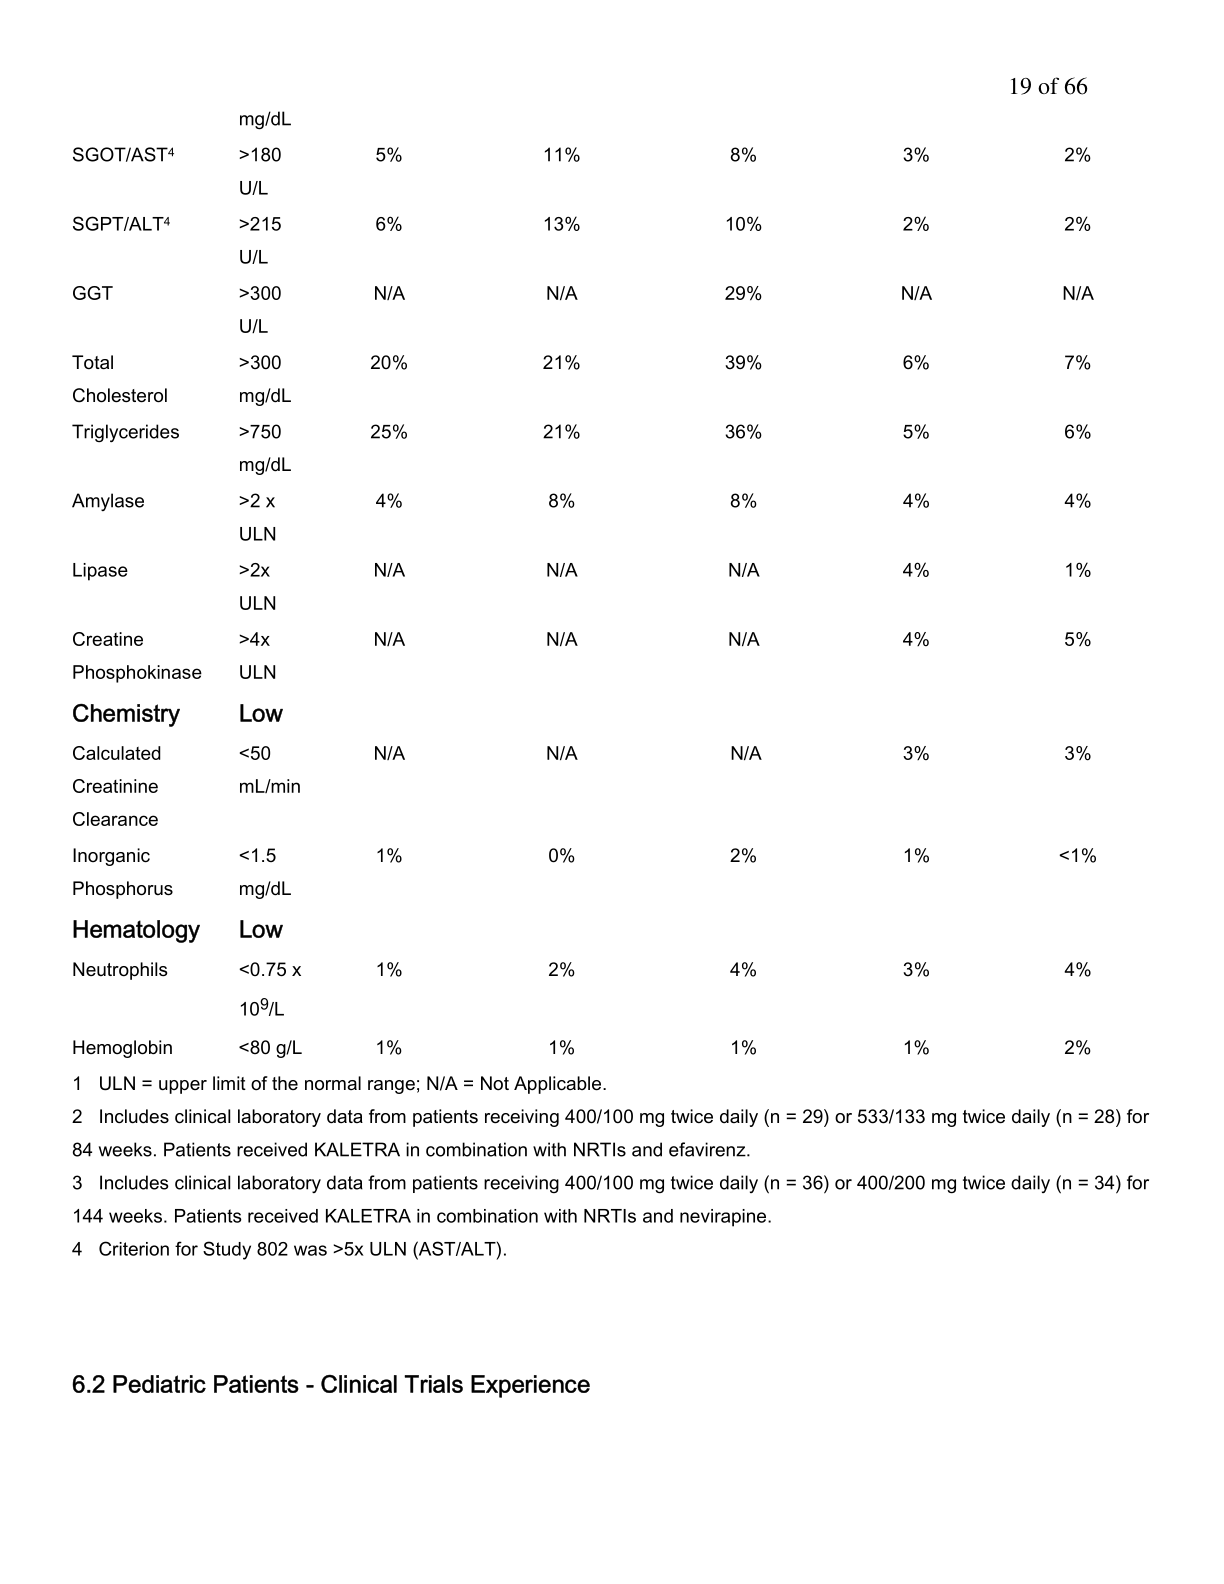nolines: (66, 105, 1103, 1070)
